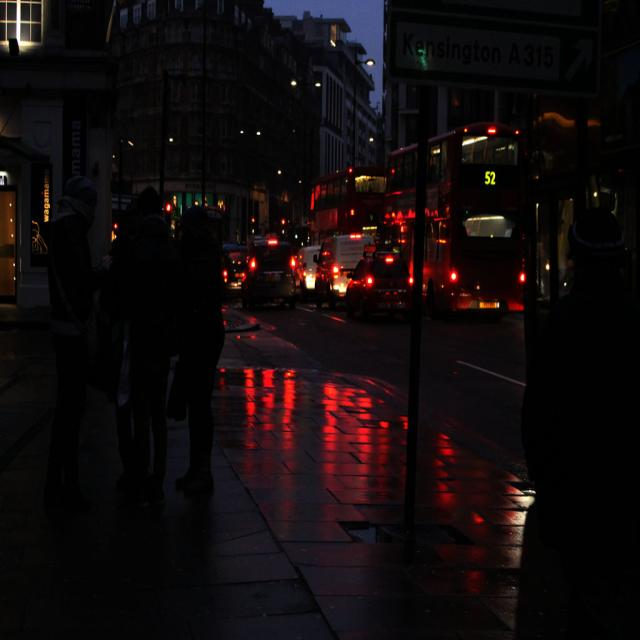Bus: (393, 109, 546, 336), (309, 158, 397, 300)
People: (513, 175, 640, 639), (41, 160, 121, 517), (104, 180, 187, 496), (170, 194, 234, 512)
car: (239, 220, 300, 306)
